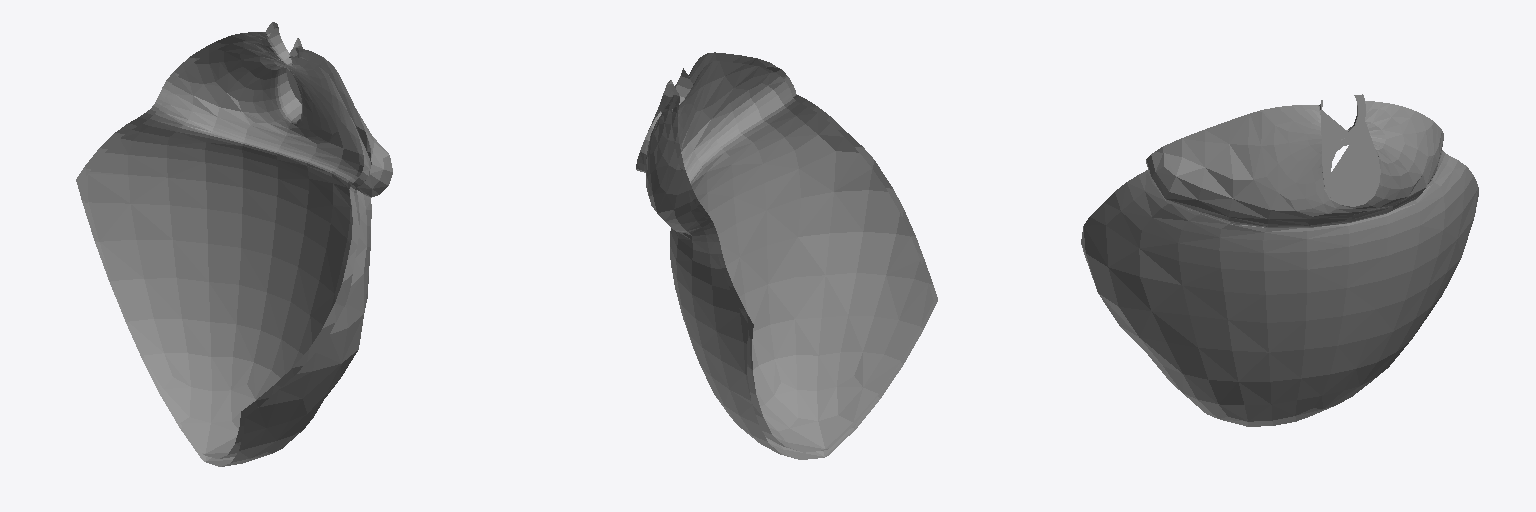
File: Leftventricle.obj
3 views of the same model, side by side, from view 1: azimuth 30°, elevation 25°; view 2: azimuth 150°, elevation 25°; view 3: azimuth 270°, elevation 25° (orthographic).
Parts seen in each view (by area): view 1: Human_Heart; view 2: Human_Heart; view 3: Human_Heart.
Boxes of the visible parts, x1,y1,x2,y2 form: Human_Heart: [76, 22, 392, 466]; Human_Heart: [636, 52, 937, 459]; Human_Heart: [1081, 94, 1478, 426].
Bounding box in the file's own units: 4.75 × 9.52 × 9.04.